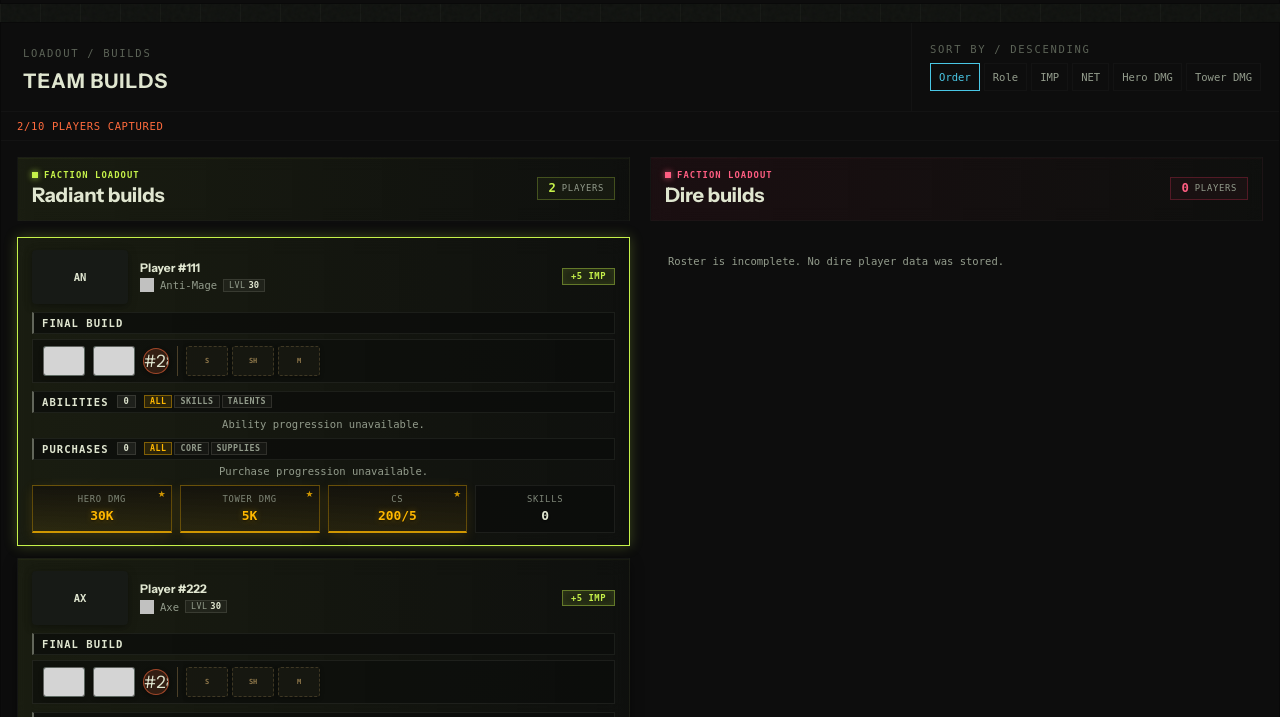
MatchDetailView › shows a custom tooltip for final-loadout item tokens
The image size is (1280, 717).
(page scrolled)
Hover over the element with class "item-token__icon" at point(64, 360), box [43,346,85,376]
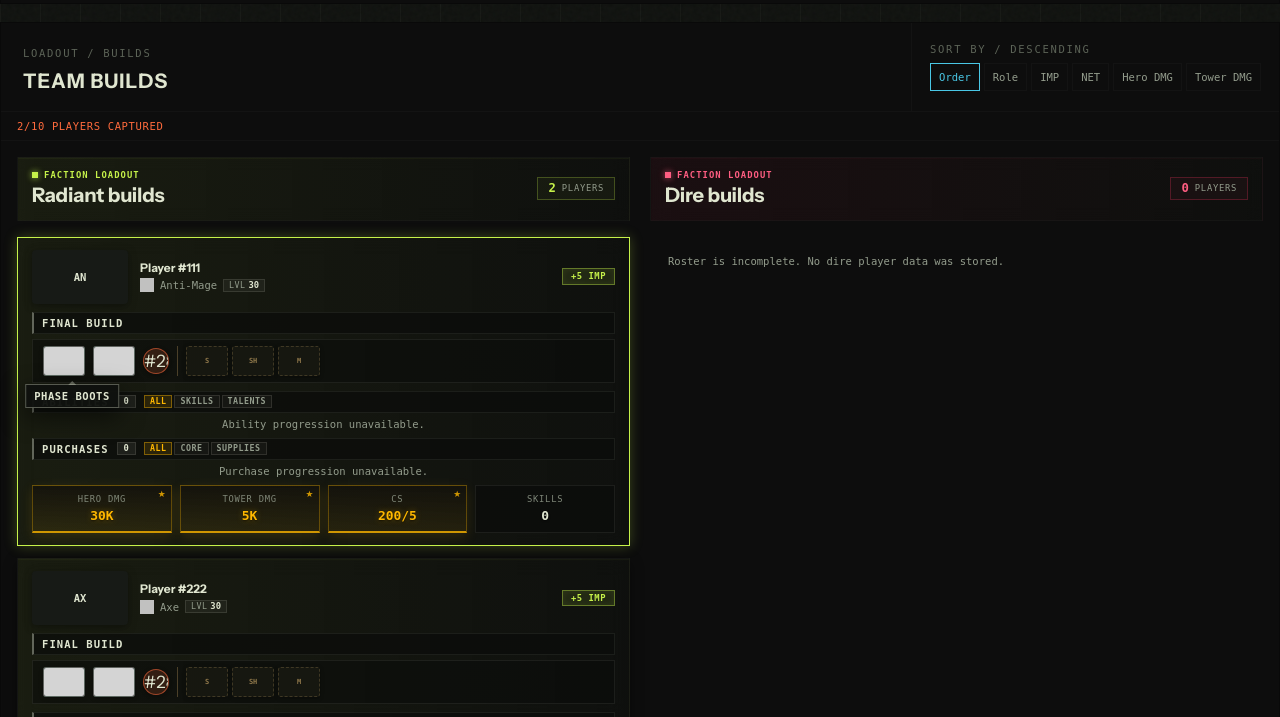
Expected: the tooltip reads "Phase Boots", [34,390,110,402]
